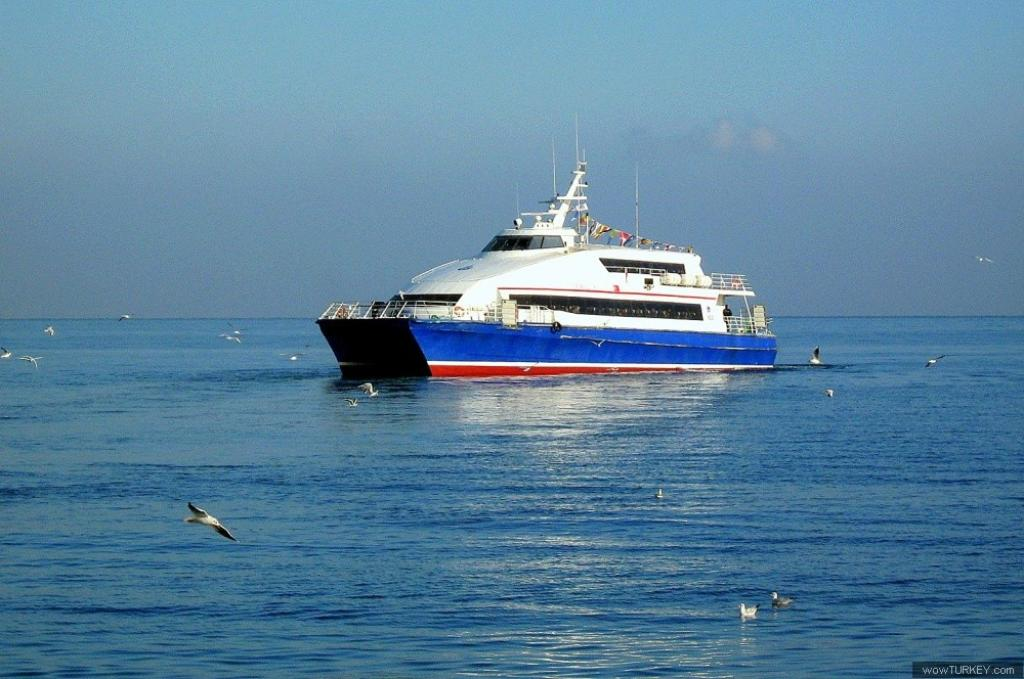PassengerShip: (308, 111, 780, 381)
